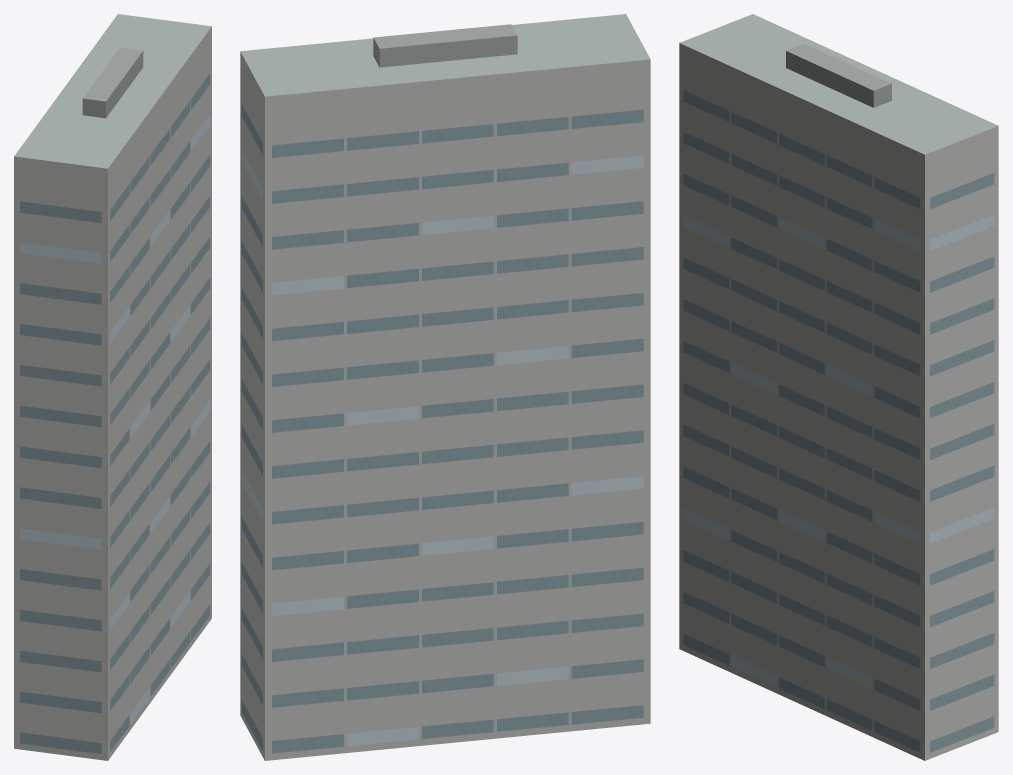
The model's file is fallback-godeok-raemian-hillstate-118.glb.
3 renders of one model, left to right at view 1: azimuth 30°, elevation 25°; view 2: azimuth 150°, elevation 25°; view 3: azimuth 270°, elevation 25°, orthographic. The views are drawn at different scales.
Visible parts, largest first — view 1: fallback-godeok-raemian-hillstate-118; view 2: fallback-godeok-raemian-hillstate-118; view 3: fallback-godeok-raemian-hillstate-118.
Boxes of the visible parts, x1=… form: fallback-godeok-raemian-hillstate-118: x1=14, y1=14, x2=211, y2=760; fallback-godeok-raemian-hillstate-118: x1=240, y1=14, x2=650, y2=760; fallback-godeok-raemian-hillstate-118: x1=679, y1=14, x2=998, y2=760.
Bounding box in the file's own units: 42.14 × 87 × 40.41.
